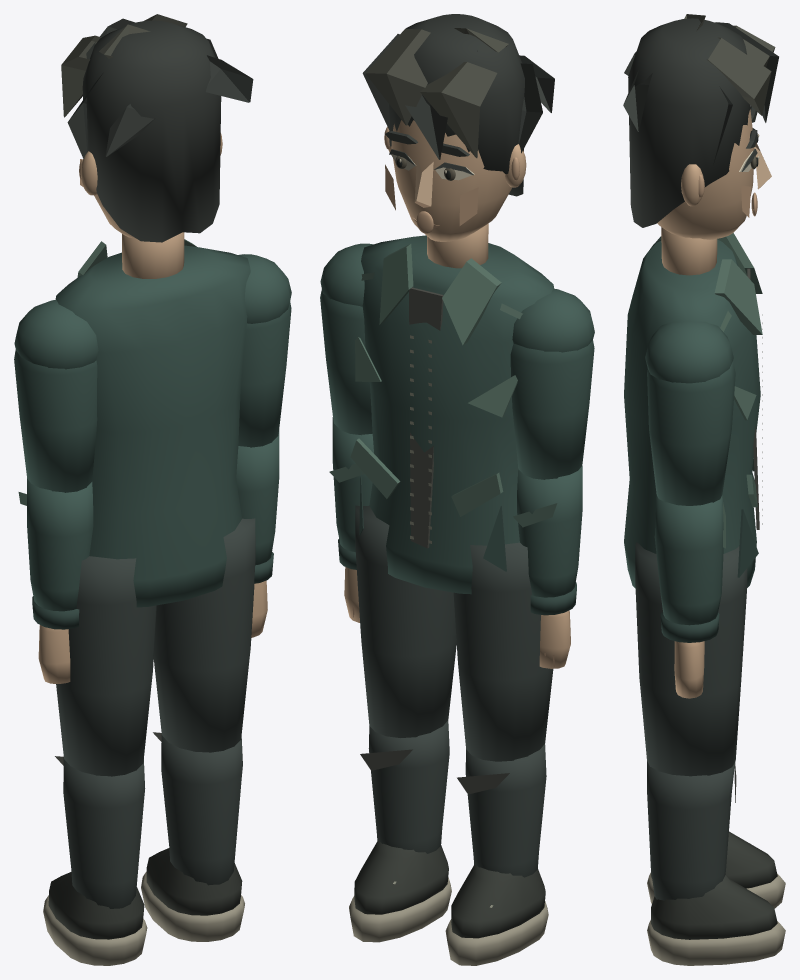
Rendered from graphic-protagonist.glb.
The picture shows the model from 3 angles, left to right: view 1: azimuth 30°, elevation 25°; view 2: azimuth 150°, elevation 25°; view 3: azimuth 270°, elevation 25°; orthographic projection.
Parts seen in each view (by area): view 1: Jacket, Hair_Cap, Trousers_Upper_L, Trousers_Upper_R, Trousers_Lower_L, Trousers_Lower_R, Sleeve_Upper_L, Sleeve_Lower_L, Sleeve_Upper_R, Shoulder_Cap_L, Sleeve_Lower_R, Shoe_Upper_R (+13 smaller); view 2: Jacket, Trousers_Upper_L, Trousers_Upper_R, Sleeve_Upper_L, Hair_Cap, Trousers_Lower_L, Trousers_Lower_R, Face, Sleeve_Lower_L, Shoe_Upper_L, Shoe_Upper_R, Sleeve_Upper_R (+25 smaller); view 3: Jacket, Hair_Cap, Trousers_Upper_R, Sleeve_Upper_R, Trousers_Lower_R, Sleeve_Lower_R, Shoe_Upper_R, Shoulder_Cap_R, Face, Sole_R, Hair_Lock_02, Neck (+14 smaller).
Part boxes in pixels (bbox=[...]): Jacket: bbox=[55, 245, 250, 607]; Hair_Cap: bbox=[82, 20, 221, 242]; Trousers_Upper_L: bbox=[56, 556, 156, 776]; Trousers_Upper_R: bbox=[153, 518, 255, 752]; Trousers_Lower_L: bbox=[63, 757, 145, 908]; Trousers_Lower_R: bbox=[161, 735, 242, 885]; Sleeve_Upper_L: bbox=[14, 349, 97, 492]; Sleeve_Lower_L: bbox=[27, 478, 93, 611]; Sleeve_Upper_R: bbox=[238, 301, 291, 447]; Shoulder_Cap_L: bbox=[14, 300, 98, 369]; Sleeve_Lower_R: bbox=[236, 430, 279, 565]; Shoe_Upper_R: bbox=[146, 848, 242, 915]; Jacket: bbox=[361, 235, 553, 594]; Trousers_Upper_L: bbox=[453, 542, 553, 761]; Trousers_Upper_R: bbox=[355, 505, 456, 737]; Sleeve_Upper_L: bbox=[510, 340, 594, 479]; Hair_Cap: bbox=[388, 14, 524, 196]; Trousers_Lower_L: bbox=[465, 744, 546, 877]; Trousers_Lower_R: bbox=[368, 720, 449, 853]; Face: bbox=[391, 120, 512, 241]; Sleeve_Lower_L: bbox=[517, 465, 582, 597]; Shoe_Upper_L: bbox=[451, 864, 545, 938]; Shoe_Upper_R: bbox=[354, 841, 448, 914]; Sleeve_Upper_R: bbox=[320, 289, 372, 435]; Jacket: bbox=[624, 239, 760, 588]; Hair_Cap: bbox=[628, 18, 750, 227]; Trousers_Upper_R: bbox=[635, 542, 747, 776]; Sleeve_Upper_R: bbox=[647, 361, 735, 505]; Trousers_Lower_R: bbox=[647, 761, 735, 900]; Sleeve_Lower_R: bbox=[654, 495, 723, 625]; Shoe_Upper_R: bbox=[651, 875, 777, 939]; Shoulder_Cap_R: bbox=[645, 321, 733, 383]; Face: bbox=[657, 109, 754, 239]; Sole_R: bbox=[647, 920, 785, 965]; Hair_Lock_02: bbox=[706, 37, 771, 115]; Neck: bbox=[661, 227, 717, 275].
Size of the model in its own units: 0.79 by 2.58 by 0.422.
